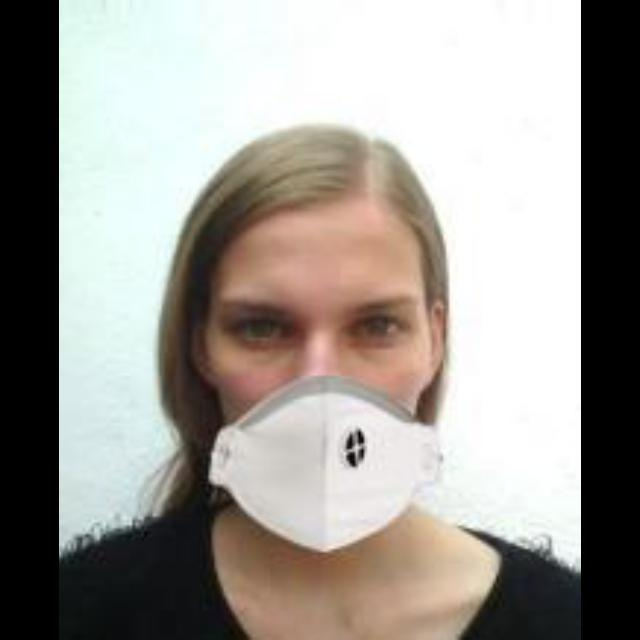suspicion: (196, 115, 460, 558)
